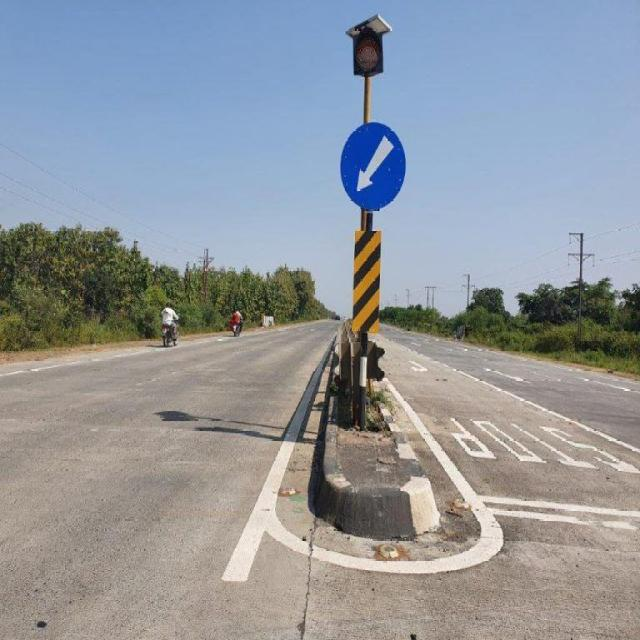compulsory_keep_left: (320, 116, 416, 214)
object_hazzard_to_left: (345, 225, 390, 358)
